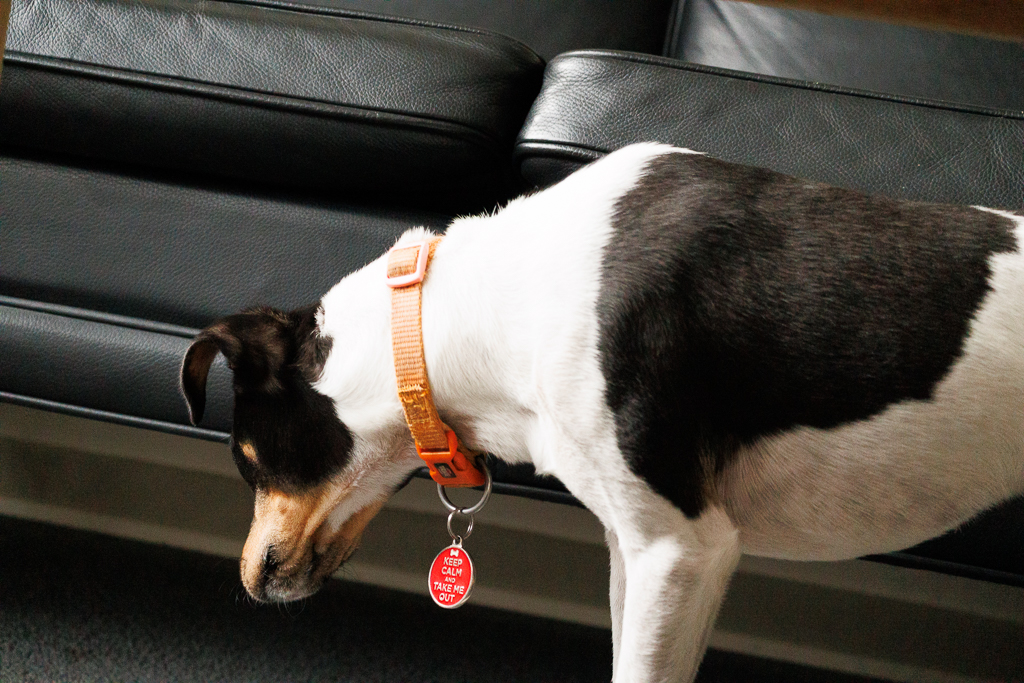Dog: (167, 133, 1024, 683)
